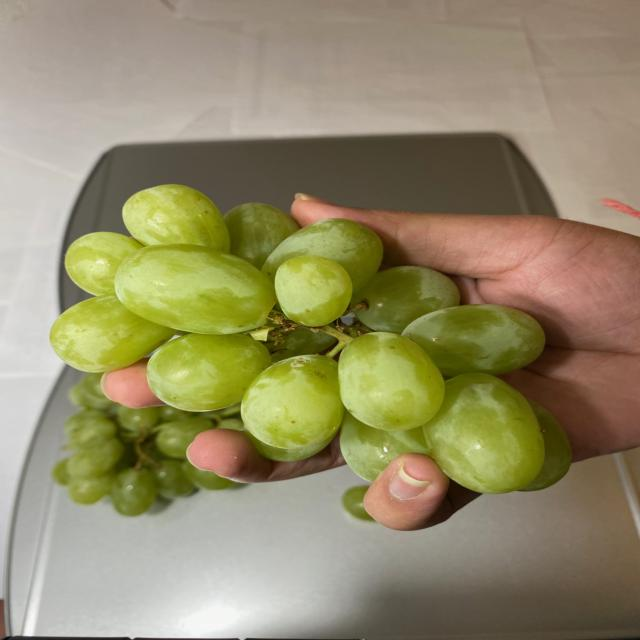grapes: (45, 179, 572, 502)
